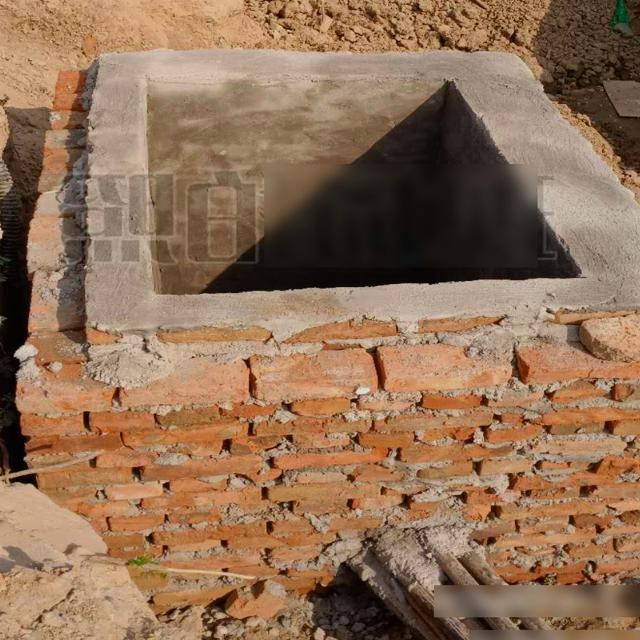lose: (84, 51, 640, 330)
